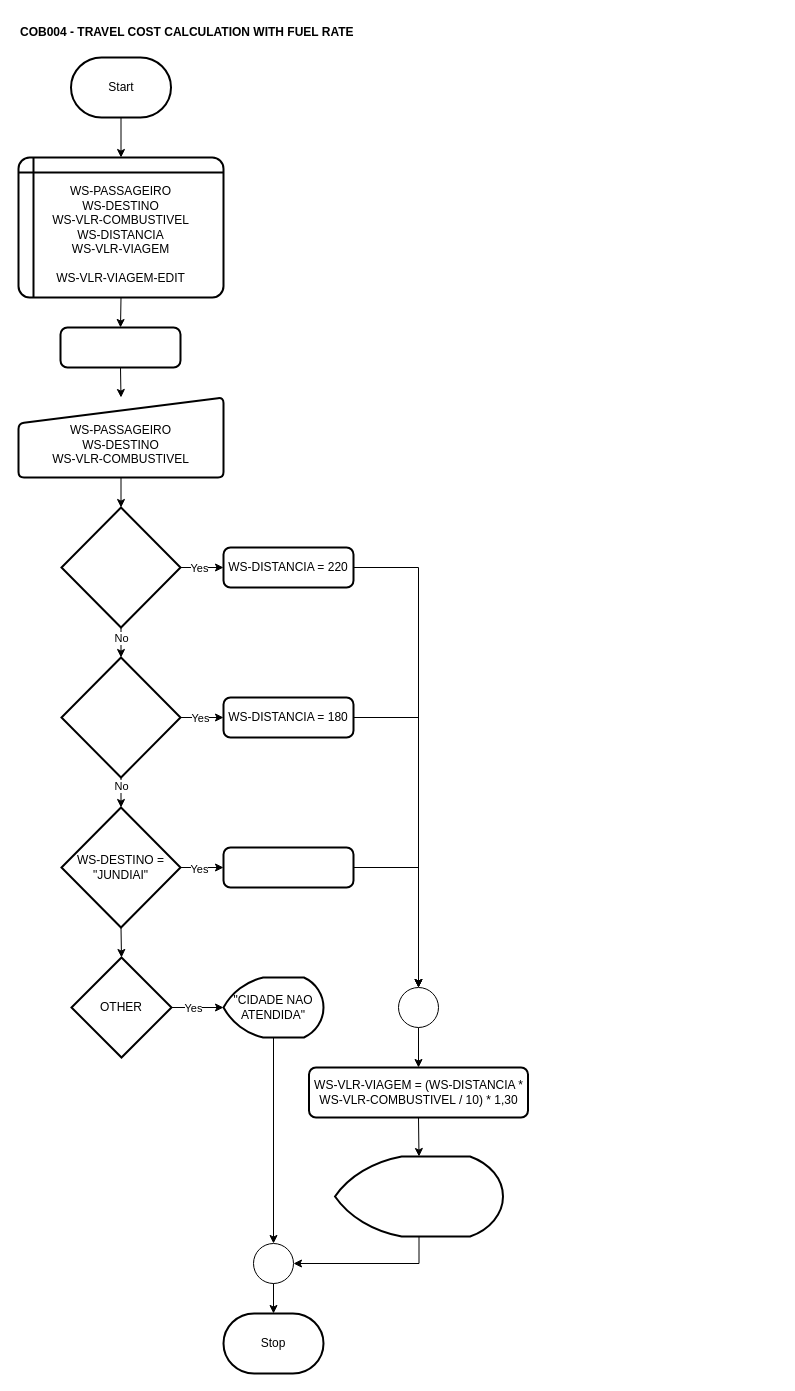
Some shapes in this 795 by 1391 pixel diagram are drawn without their labels. Each missing label, with the centre of its shape:
WS-DESTINO = "CAMPINAS": the point at 120,717
WS-DESTINO = "PIRACICABA": the point at 120,567
WS-DISTANCIA = 0: the point at 120,347
WS-DISTANCIA = 120: the point at 288,867
WS-PASSAGEIRO WS-DESTINO WS-VLR-VIAGEM-EDIT: the point at 419,1196
